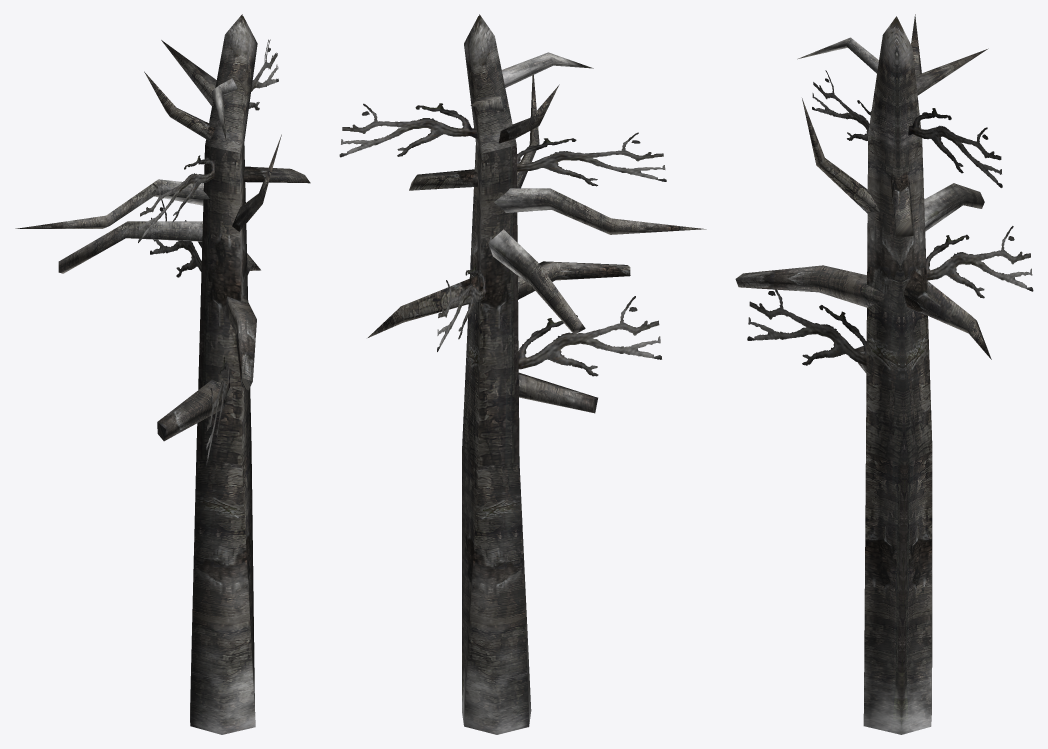
File: Snow_Tree06.FBX
The picture shows the model from 3 angles, left to right: view 1: azimuth 30°, elevation 25°; view 2: azimuth 150°, elevation 25°; view 3: azimuth 270°, elevation 25°; orthographic projection.
Parts seen in each view (by area): view 1: Snow_Tree06; view 2: Snow_Tree06; view 3: Snow_Tree06.
Boxes of the visible parts, x1,y1,x2,y2 form: Snow_Tree06: (15,14,310,734); Snow_Tree06: (339,14,706,734); Snow_Tree06: (735,14,1033,734).
Bounding box in the file's own units: 664 × 1406 × 534.
